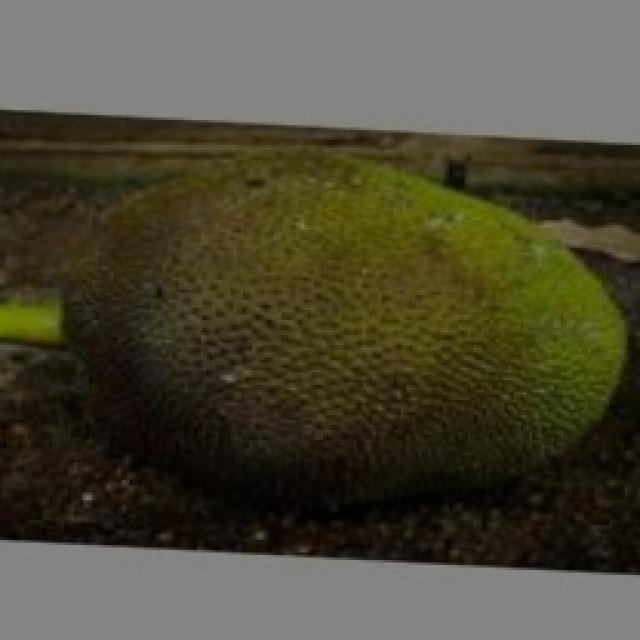Fruit: (258, 130, 640, 535)
